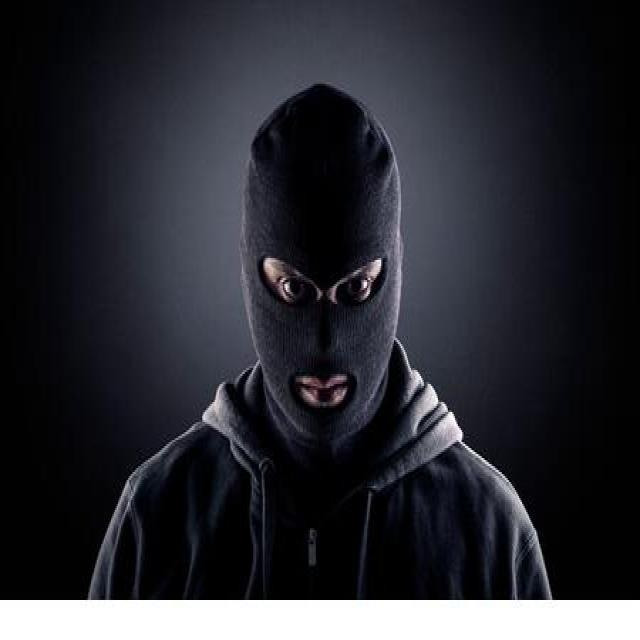6_pasamontana: (245, 84, 404, 466)
